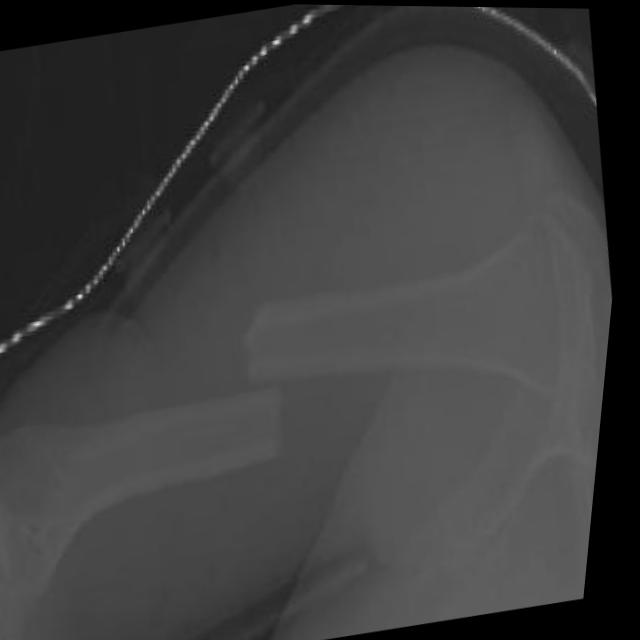fracture: (216, 273, 329, 495)
